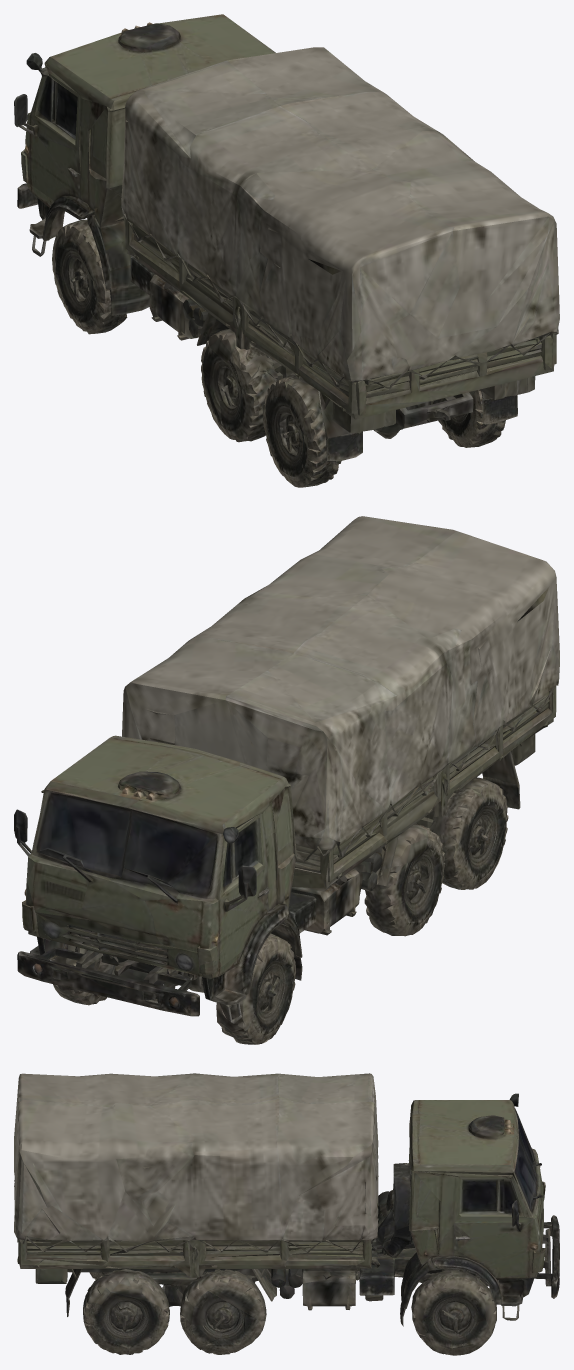
Rendered from Kamaz_6x6_25k.glb.
3 renders of one model, top to bottom at view 1: azimuth 30°, elevation 25°; view 2: azimuth 150°, elevation 25°; view 3: azimuth 270°, elevation 25°, orthographic. The views are drawn at different scales.
Visible parts, largest first — view 1: output_unwrapped; view 2: output_unwrapped; view 3: output_unwrapped.
Boxes of the visible parts, x1,y1,x2,y2 form: output_unwrapped: (14,14,559,487); output_unwrapped: (14,516,559,1044); output_unwrapped: (14,1073,559,1355).
Size of the model in its own units: 3.08 by 3.49 by 7.8.
1 material, 1 textured.
